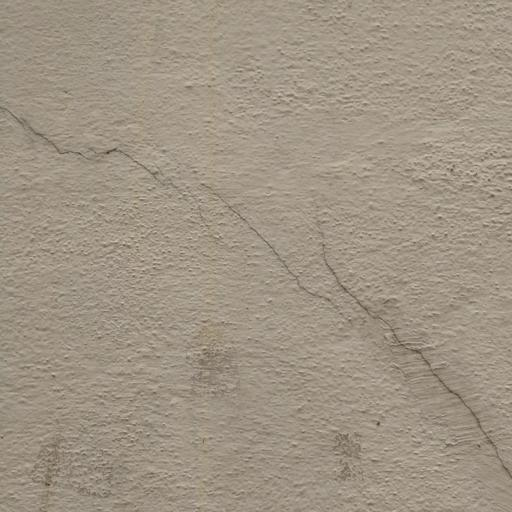minor_crack: (2, 81, 512, 482)
